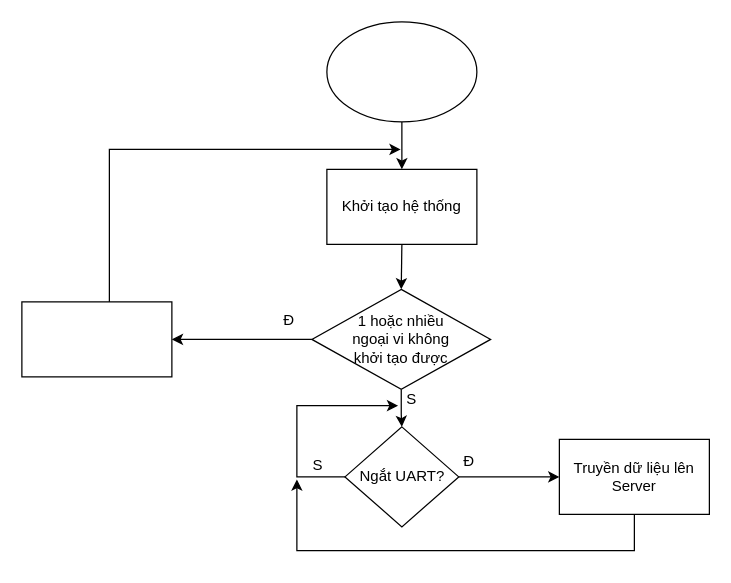
The diagram is 731 pixels wide and 583 high, and some of its shapes have lost their labels. Each missing label, with the centre of its shape:
Bắt đầu: the point at 401,71
Error Handler: the point at 96,339
